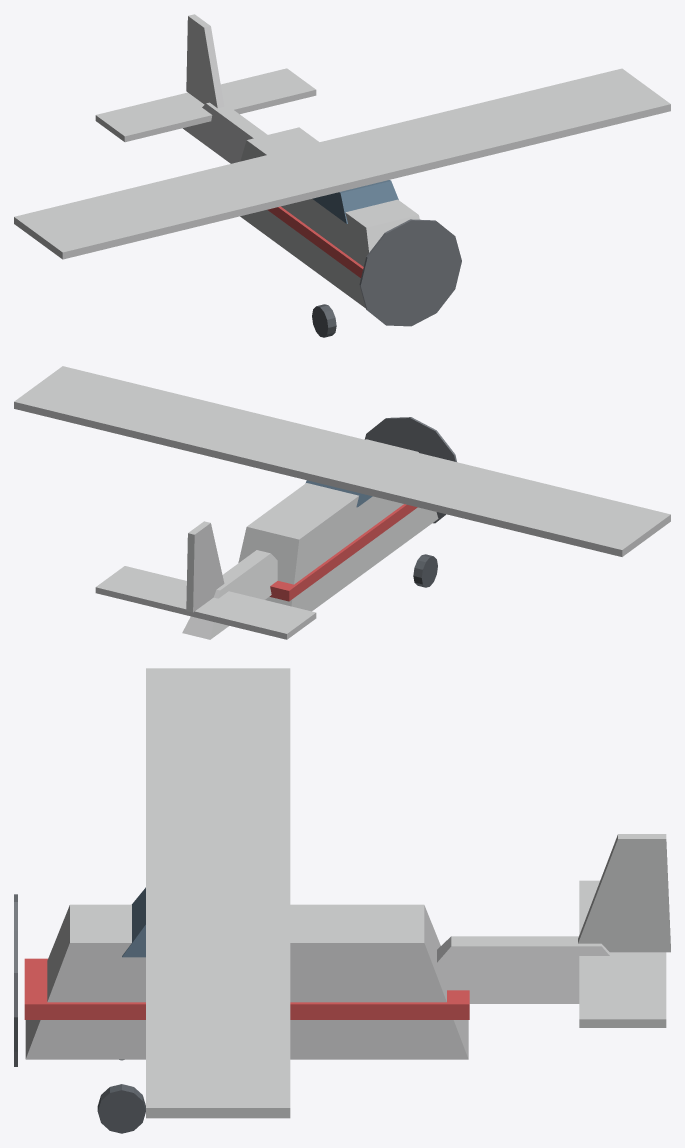
The model's file is synth_light_aircraft.glb.
The picture shows the model from 3 angles, top to bottom: view 1: azimuth 30°, elevation 25°; view 2: azimuth 150°, elevation 25°; view 3: azimuth 270°, elevation 25°; orthographic projection. The views are drawn at different scales.
Size of the model in its own units: 10.8 by 2.95 by 6.82.
